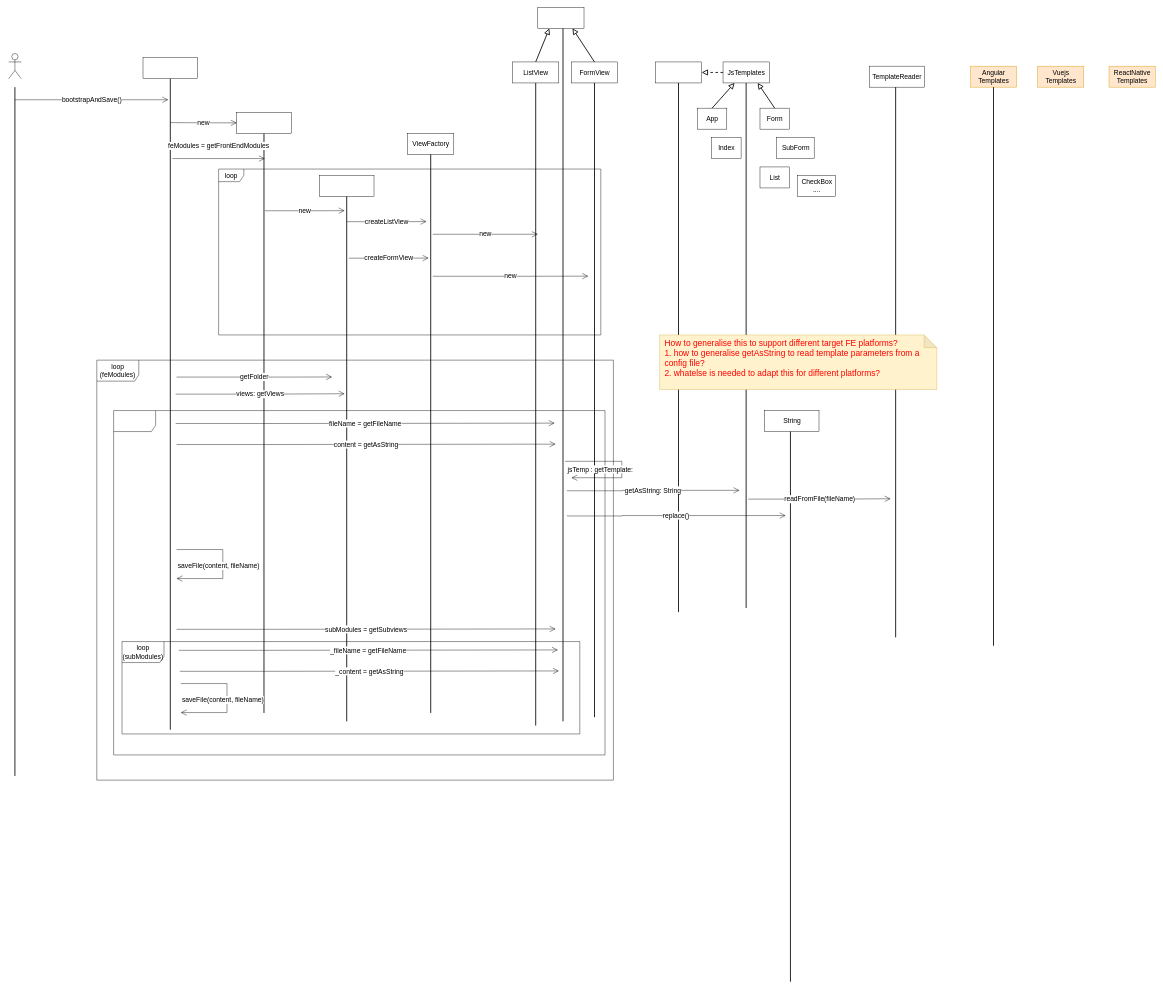
Some shapes in this 1163 by 990 pixel diagram are drawn without their labels. The centre of each missing label's shape, as x and y in pixels:
"Actor" belongs at pixel 14 66.
"AppEntryPoint" belongs at pixel 263 122.
"FrontEndModule" belongs at pixel 346 185.
"JsTemplate <<interface>>" belongs at pixel 678 72.
"loop (views)" belongs at pixel 359 582.
"View" belongs at pixel 560 17.
"ViewBootstraper" belongs at pixel 170 68.
